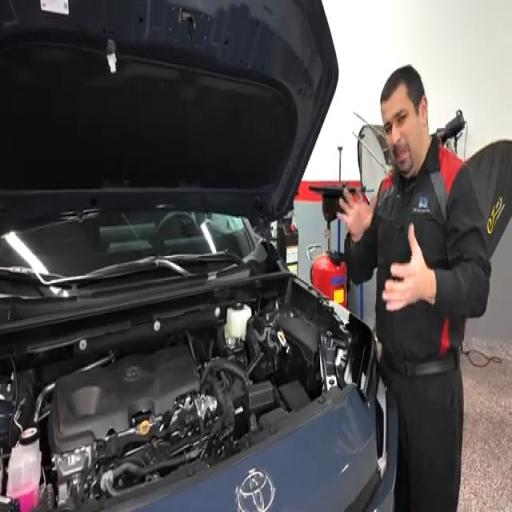bumper: (112, 389, 397, 511), (366, 393, 398, 511)
emblem: (236, 468, 275, 511)
hood: (0, 0, 338, 231)
windshield: (0, 210, 253, 275)
